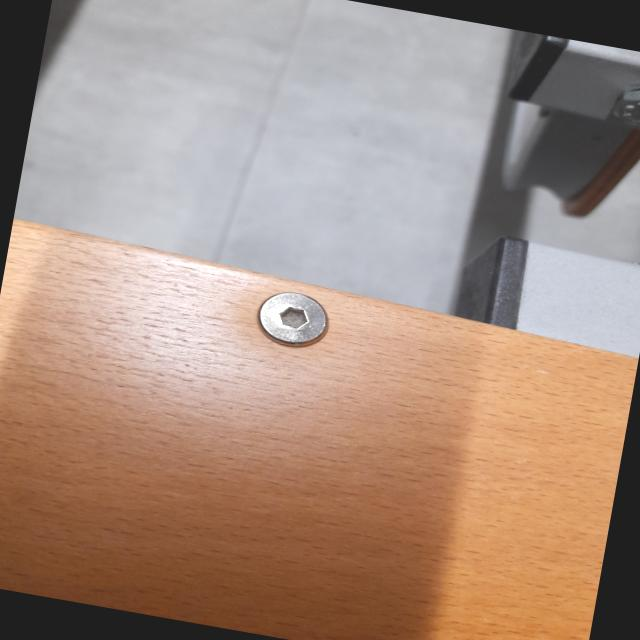Hex Socket Allen: (252, 284, 334, 354)
